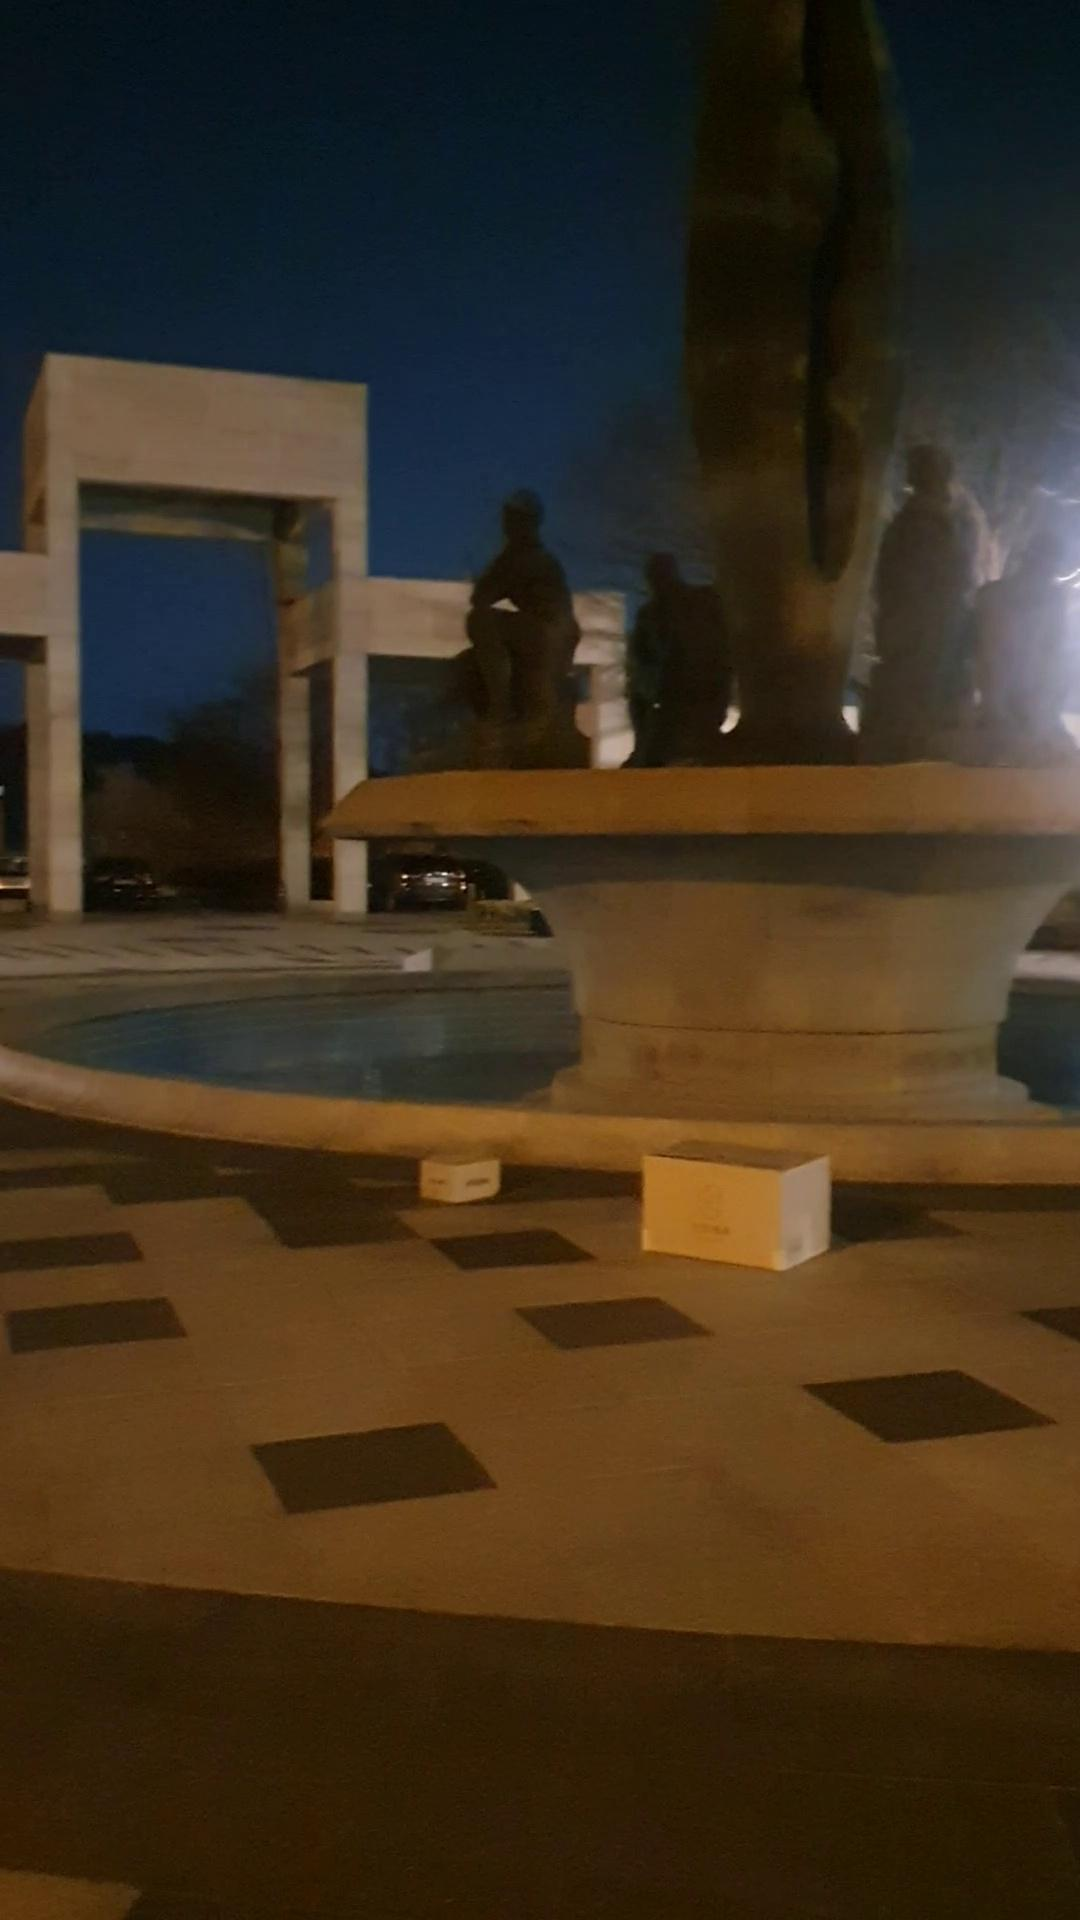Box: (626, 1130, 857, 1280), (406, 1143, 520, 1225)
